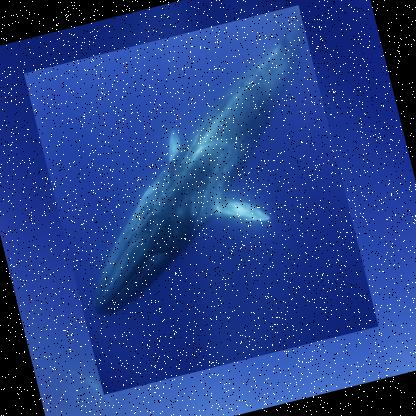blue_whale: (23, 4, 378, 395)
